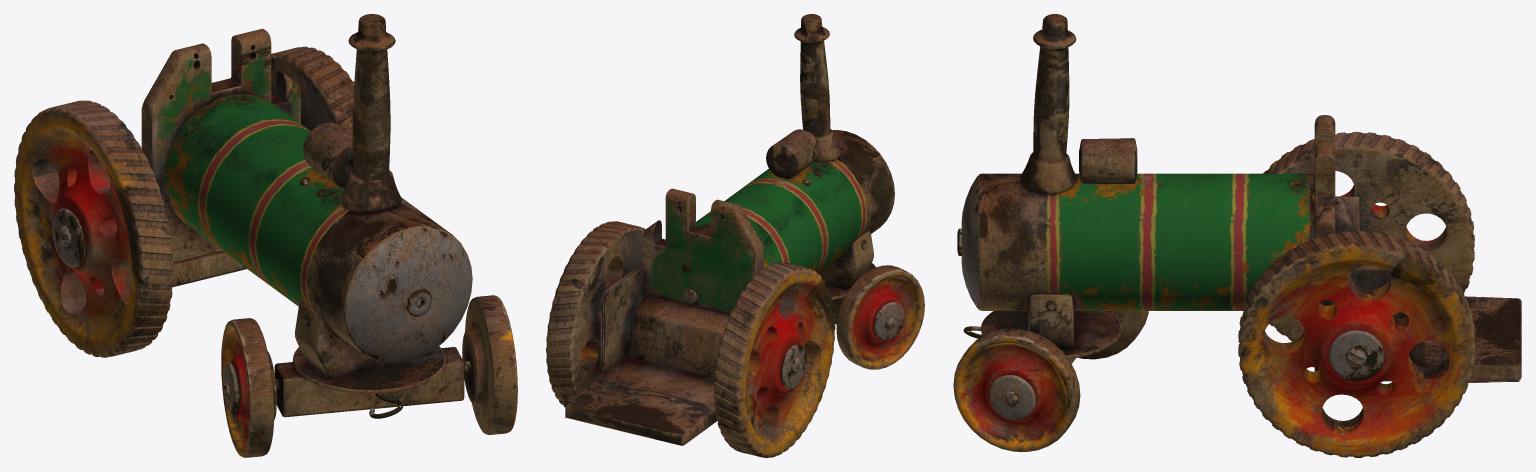
The model's file is moms_toy_3.fbx.
3 views of the same model, side by side, from view 1: azimuth 30°, elevation 25°; view 2: azimuth 150°, elevation 25°; view 3: azimuth 270°, elevation 25° (orthographic). The views are drawn at different scales.
Visible parts, largest first — view 1: T_body, T_wheels, T_metal; view 2: T_body, T_wheels, T_metal; view 3: T_wheels, T_body, T_metal.
Part boxes in pixels (<box>): T_body: <box>141,14,472,417</box>; T_wheels: <box>14,46,517,457</box>; T_metal: <box>52,177,516,418</box>; T_body: <box>564,14,894,445</box>; T_wheels: <box>546,129,924,457</box>; T_metal: <box>630,170,904,389</box>; T_wheels: <box>953,131,1474,457</box>; T_body: <box>978,14,1521,382</box>; T_metal: <box>957,176,1384,420</box>.
Bounding box in the file's own units: 12.7 × 17.75 × 23.65.
